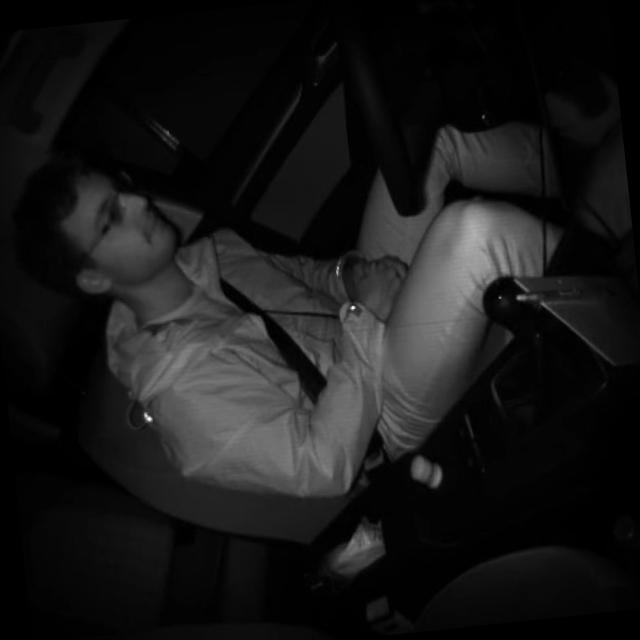pen: (514, 282, 616, 304)
